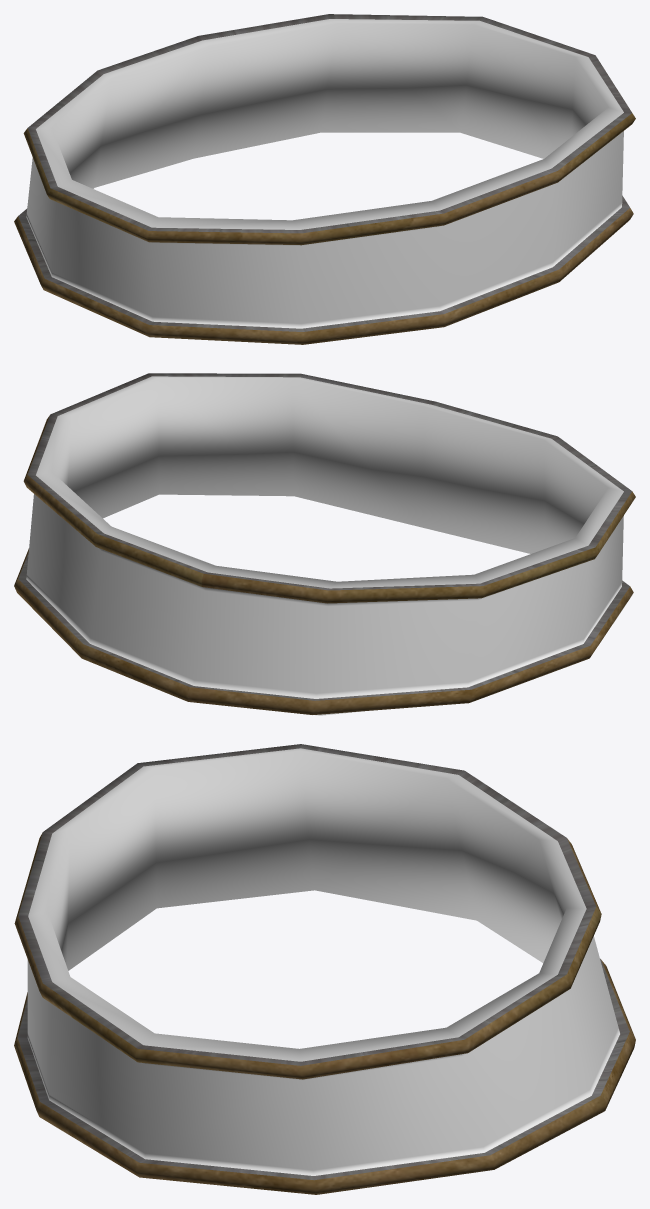
The model's file is Blet.fbx.
The picture shows the model from 3 angles, top to bottom: view 1: azimuth 30°, elevation 25°; view 2: azimuth 150°, elevation 25°; view 3: azimuth 270°, elevation 25°; orthographic projection. The views are drawn at different scales.
Visible parts, largest first — view 1: StickMan.001; view 2: StickMan.001; view 3: StickMan.001.
Part boxes in pixels (x1,y1,x2,y2): StickMan.001: [14, 14, 635, 344]; StickMan.001: [14, 373, 635, 715]; StickMan.001: [14, 744, 635, 1194].
Size of the model in its own units: 120 by 27.64 by 96.92.
